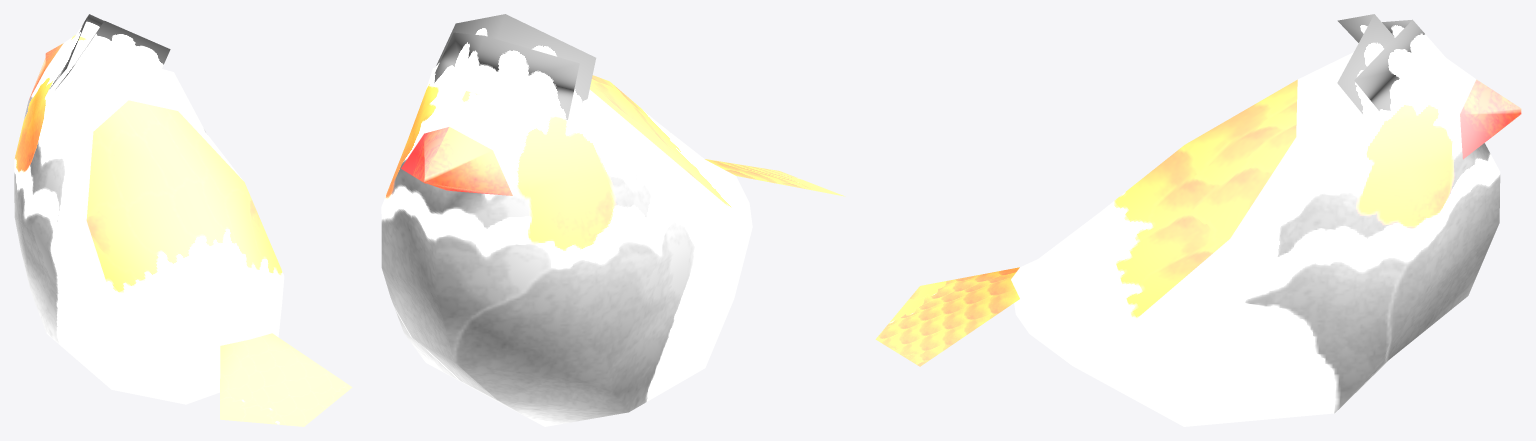
File: adult.glb
3 renders of one model, left to right at view 1: azimuth 30°, elevation 25°; view 2: azimuth 150°, elevation 25°; view 3: azimuth 270°, elevation 25°, orthographic. The views are drawn at different scales.
Parts seen in each view (by area): view 1: Cube; view 2: Cube; view 3: Cube.
Boxes of the visible parts, bbox=[...] form: Cube: bbox=[14, 14, 352, 426]; Cube: bbox=[381, 14, 845, 426]; Cube: bbox=[875, 14, 1521, 426].
Size of the model in its own units: 1.17 by 1.87 by 2.7.
